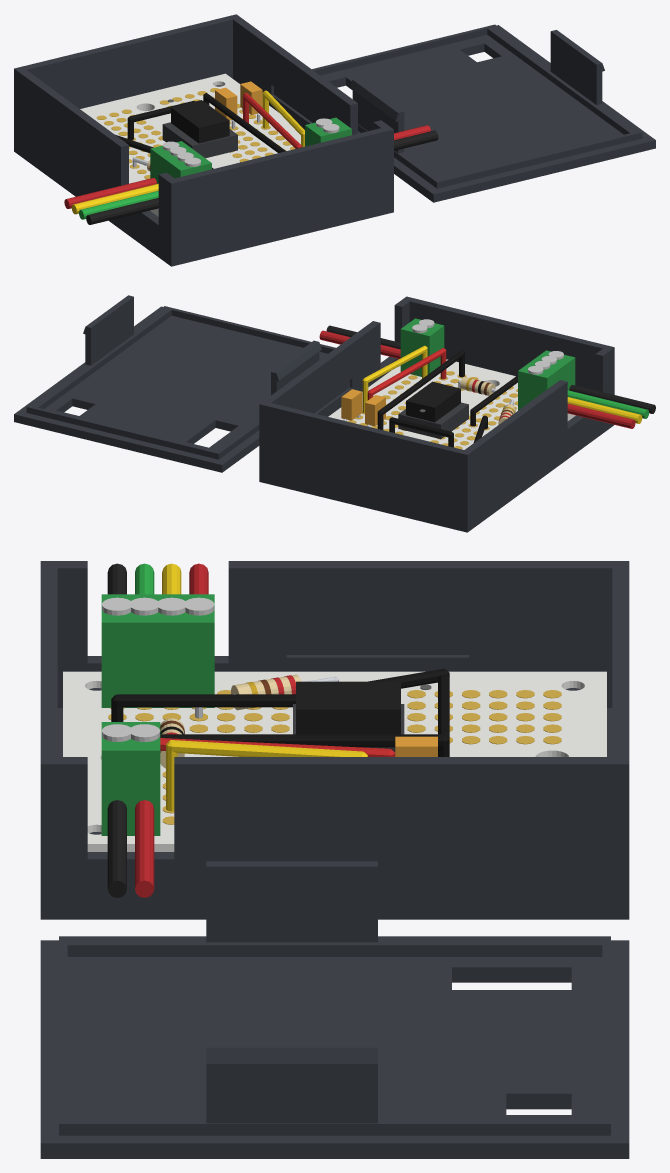
The picture shows the model from 3 angles, top to bottom: view 1: azimuth 30°, elevation 25°; view 2: azimuth 150°, elevation 25°; view 3: azimuth 270°, elevation 25°; orthographic projection. The views are drawn at different scales.
Visible parts, largest first — view 1: ATtiny85 speed limiter, lid off; view 2: ATtiny85 speed limiter, lid off; view 3: ATtiny85 speed limiter, lid off.
Part boxes in pixels (box(x1,y1,x2,y2)): ATtiny85 speed limiter, lid off: box(14, 14, 655, 266); ATtiny85 speed limiter, lid off: box(14, 295, 655, 532); ATtiny85 speed limiter, lid off: box(40, 561, 629, 1158).
Bounding box in the file's own units: 0.1103 × 0.016 × 0.055.
